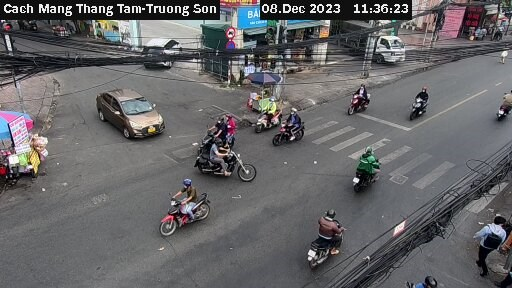car: (93, 84, 167, 142), (140, 36, 181, 72)
motorbike: (200, 141, 265, 190), (158, 181, 212, 234), (306, 216, 346, 270), (346, 150, 388, 194), (196, 117, 246, 151), (334, 81, 371, 117), (276, 116, 317, 148), (409, 86, 439, 123), (253, 106, 293, 130), (491, 85, 512, 120)
truck: (339, 18, 414, 68)
